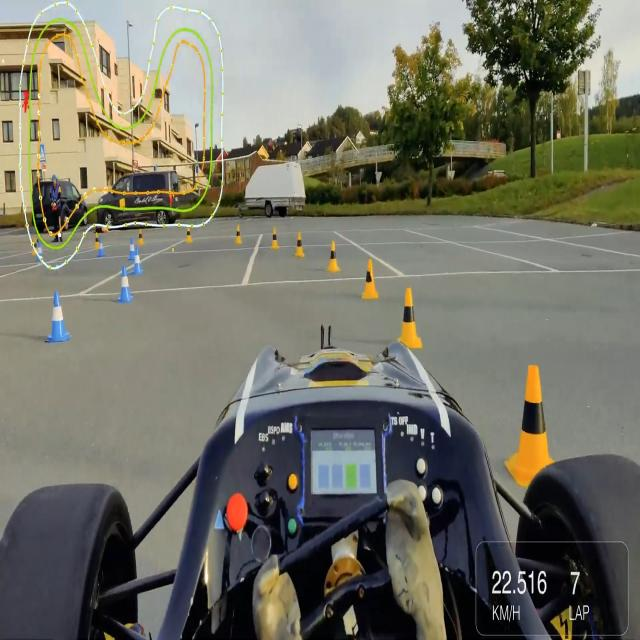blue_cone: (44, 284, 70, 349), (117, 265, 134, 304), (134, 247, 142, 275), (128, 237, 135, 260), (37, 242, 44, 265), (99, 238, 104, 256)
yellow_cone: (502, 354, 562, 487), (396, 285, 423, 350), (359, 257, 380, 301), (326, 238, 340, 274), (294, 230, 305, 259), (270, 224, 280, 250), (234, 223, 243, 246), (137, 228, 145, 246), (185, 226, 192, 244), (32, 237, 38, 257), (94, 232, 100, 251)
